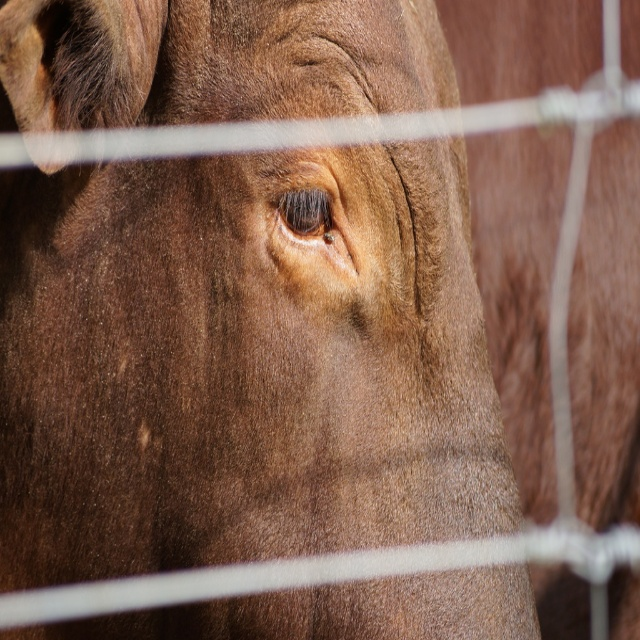Horse: (0, 0, 544, 639)
